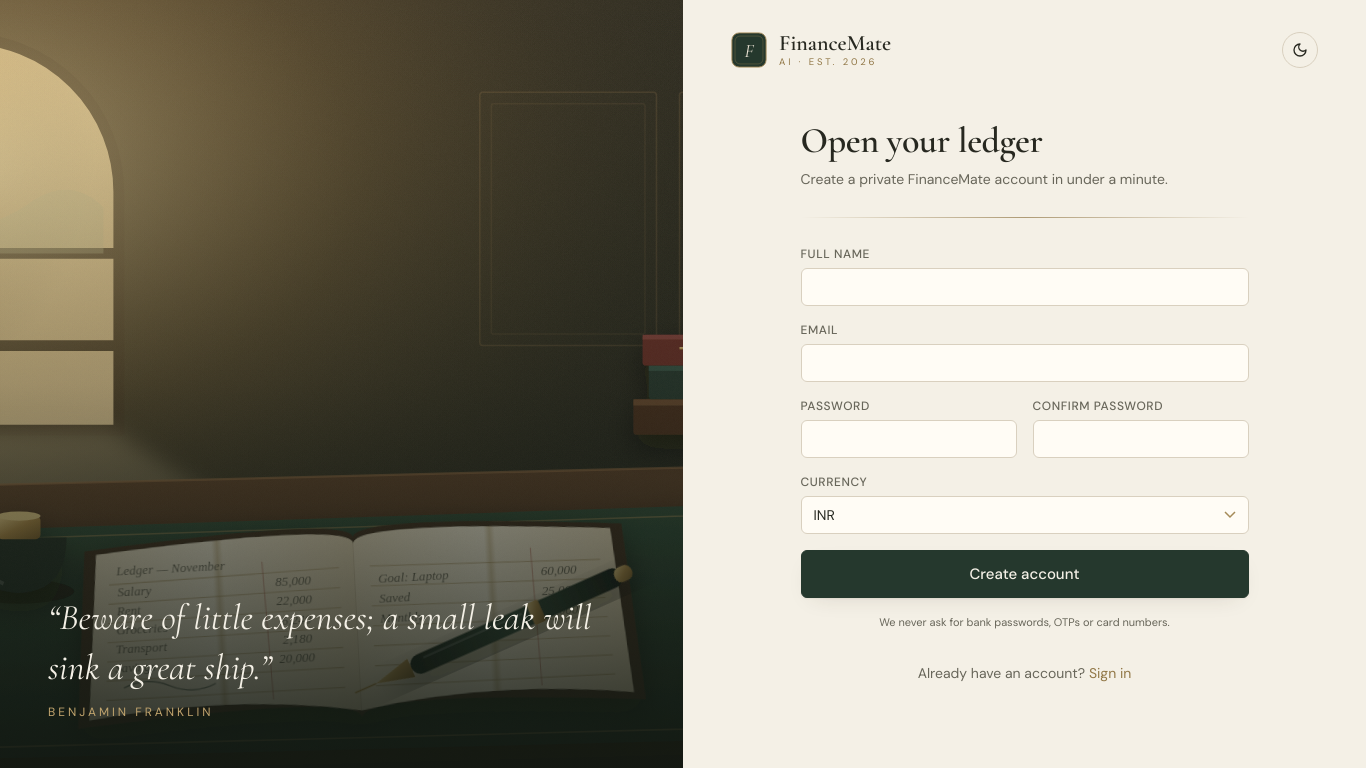
Test: authentication & navigation › registration enforces password rules and matching
The image size is (1366, 768).
Type "Asha" into the field labelled "Full name" at x=1024, y=287, box top-left (800, 268), bottom-right (1248, 306)
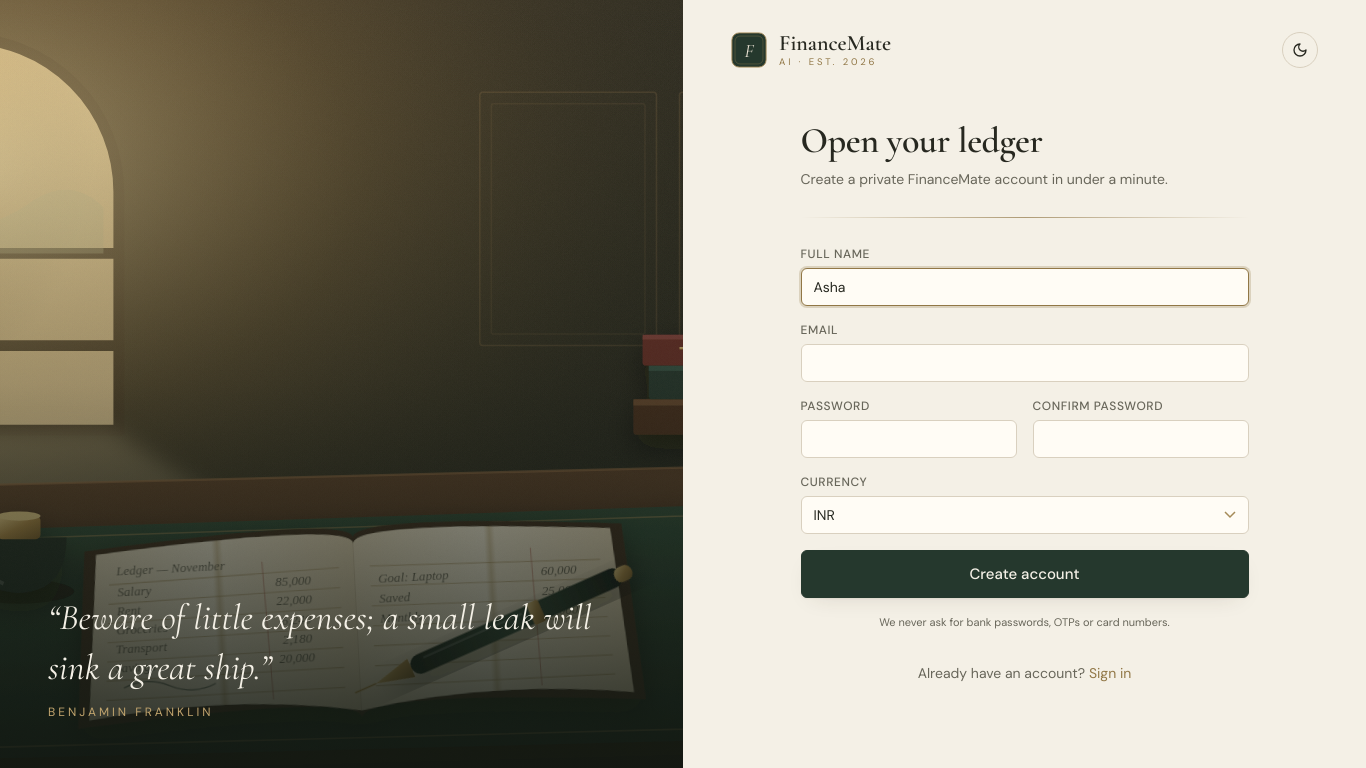
Type "a@example.com" into the field labelled "Email" at x=1024, y=363, box top-left (800, 344), bottom-right (1248, 382)
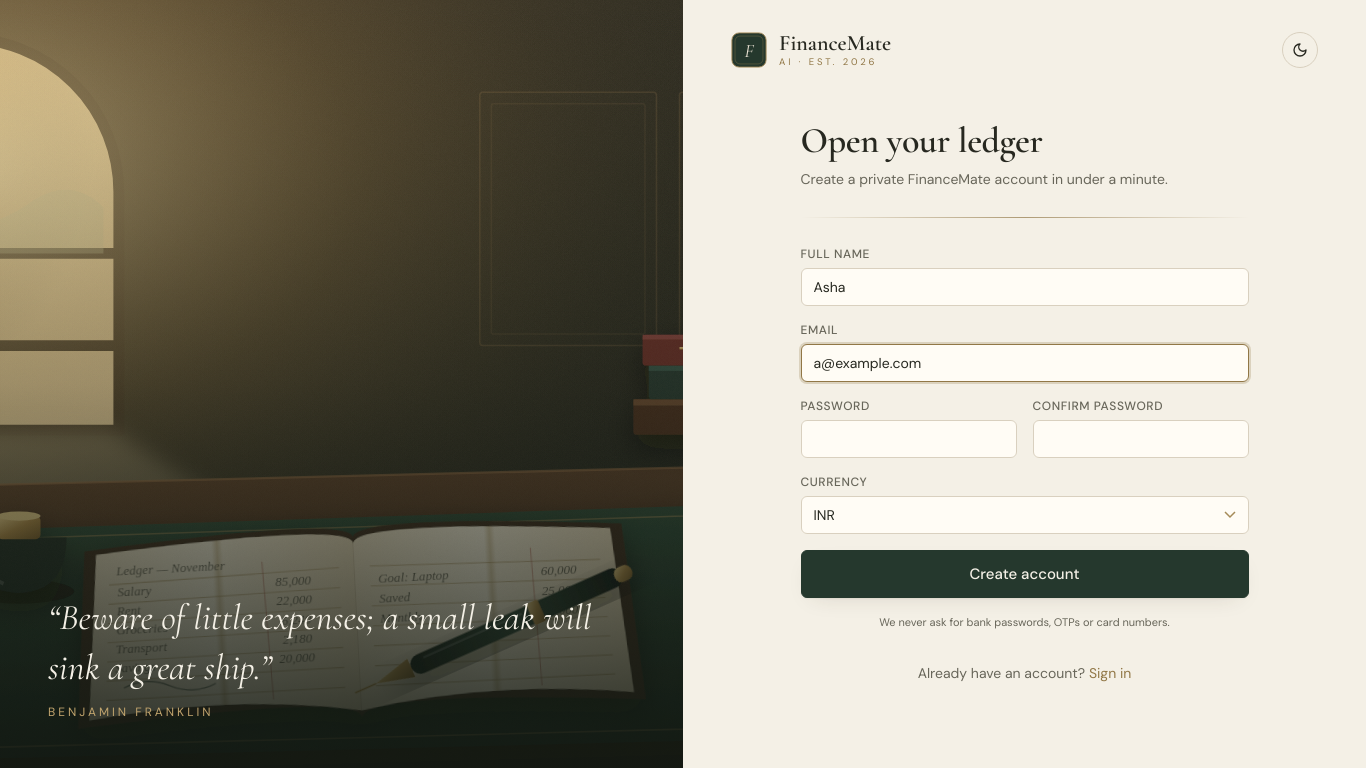
Type "password" into the password field labelled "Password" at x=908, y=439, box top-left (800, 420), bottom-right (1016, 458)
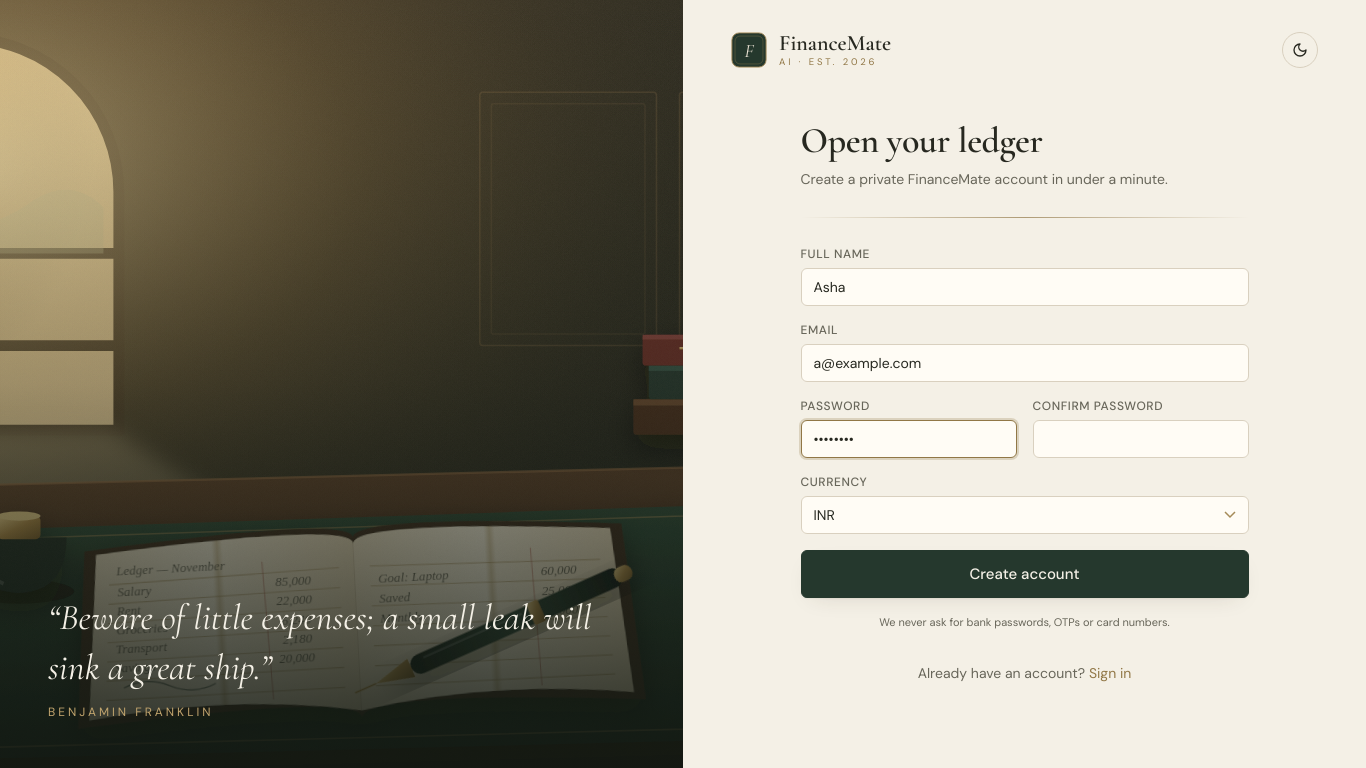
Type "different1" into the password field labelled "Confirm password" at x=1140, y=439, box top-left (1032, 420), bottom-right (1248, 458)
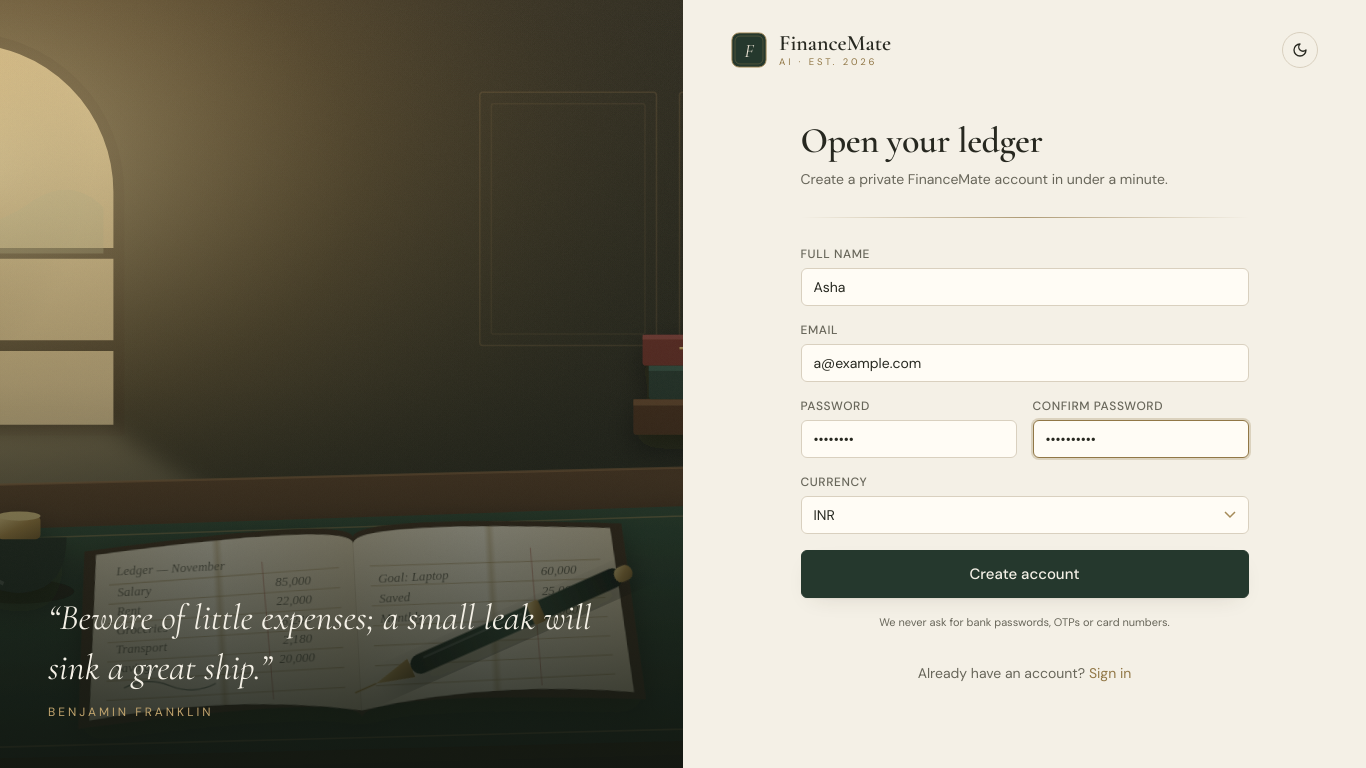
Click the button "Create account" at x=1024, y=574, box top-left (800, 550), bottom-right (1248, 598)
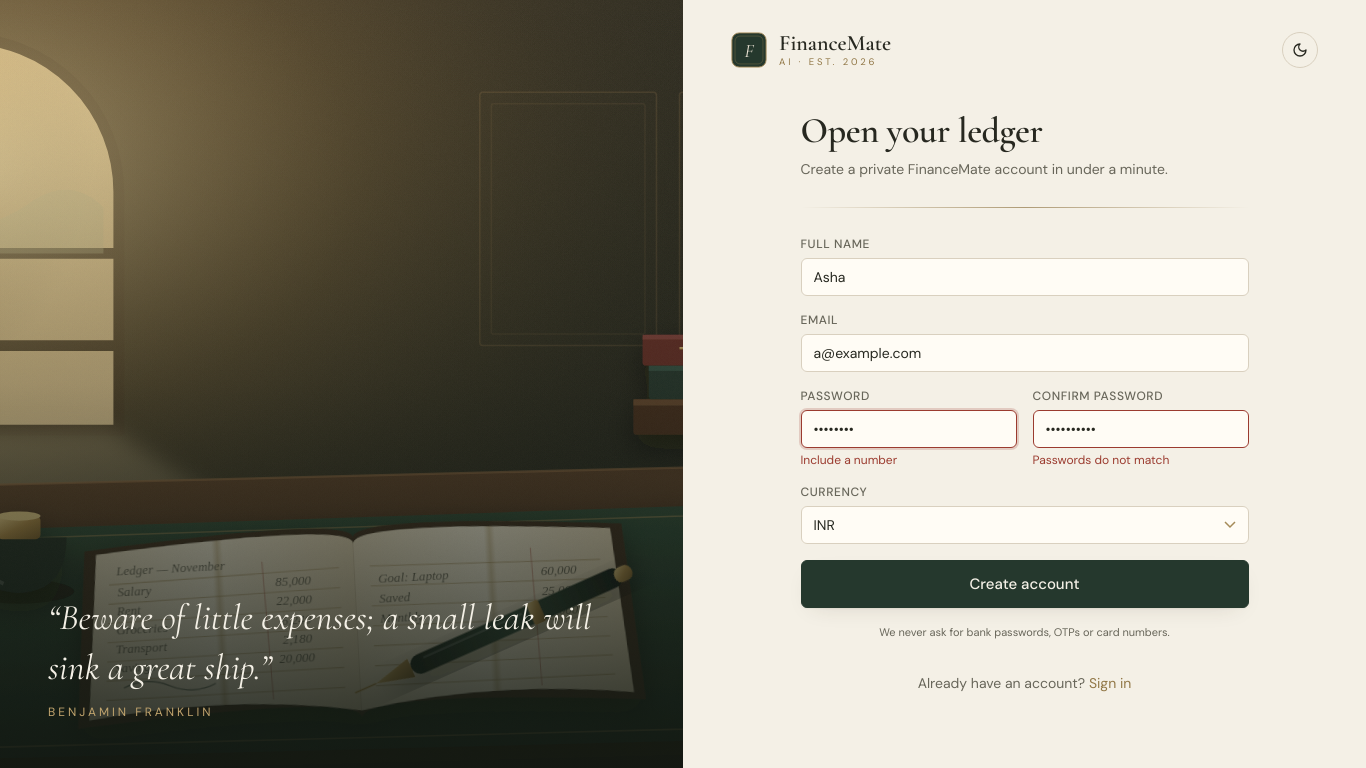
Result: the text "Include a number" is shown at top-left (800, 452), bottom-right (897, 468)
Result: the text "Passwords do not match" is shown at top-left (1032, 452), bottom-right (1169, 468)
